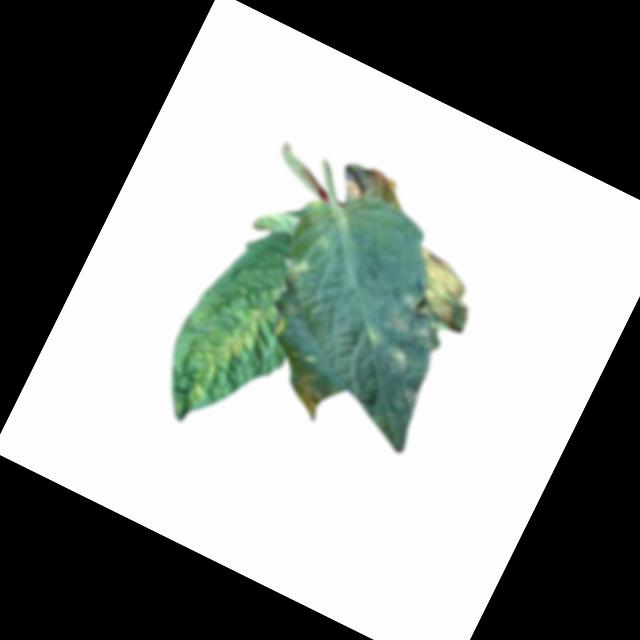Leaf_Mold: (377, 242, 490, 362), (171, 290, 268, 421), (331, 155, 409, 225), (269, 359, 338, 424)
